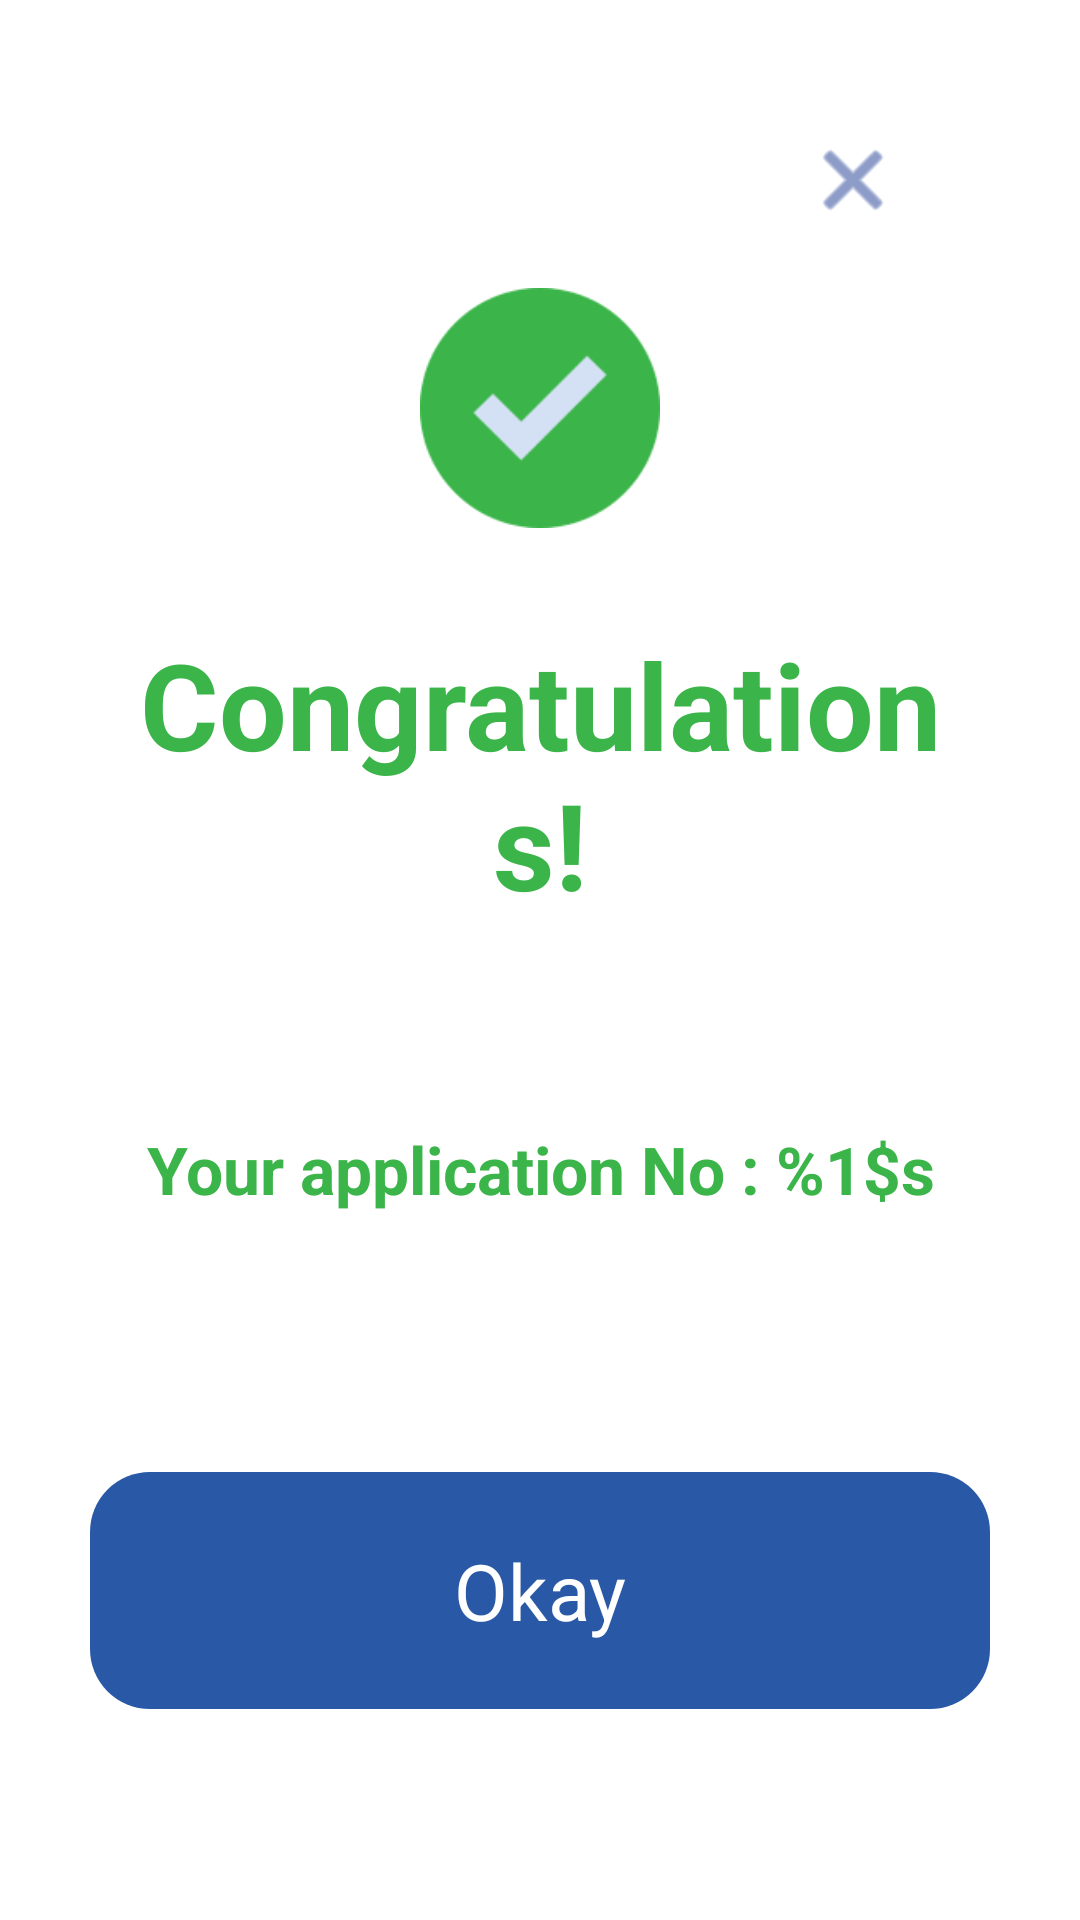

Where icons sit on this 1080px×1920px app screen, as (x1, y1, x2, y2):
close clear cancel: (823, 150, 883, 210)
success: (420, 288, 660, 528)
